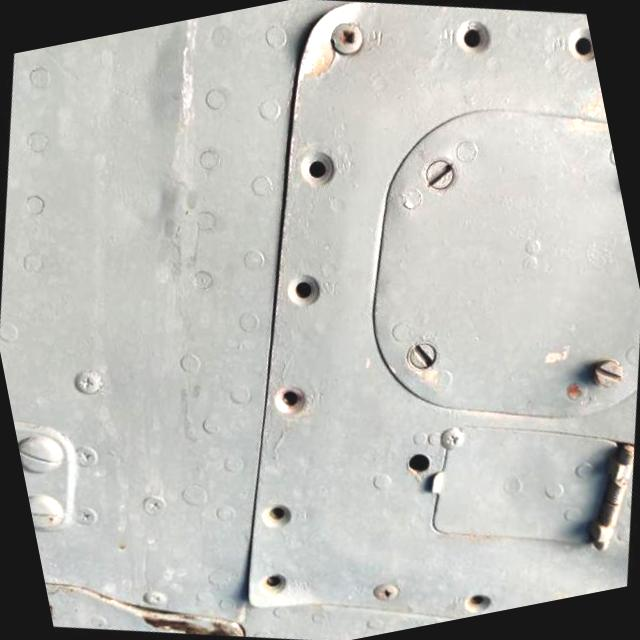Missing Fastener: (435, 8, 501, 72), (289, 140, 341, 196), (388, 439, 443, 490), (279, 268, 328, 315), (268, 383, 312, 423), (558, 23, 595, 69), (252, 566, 290, 604), (456, 588, 496, 618), (258, 501, 294, 534)
